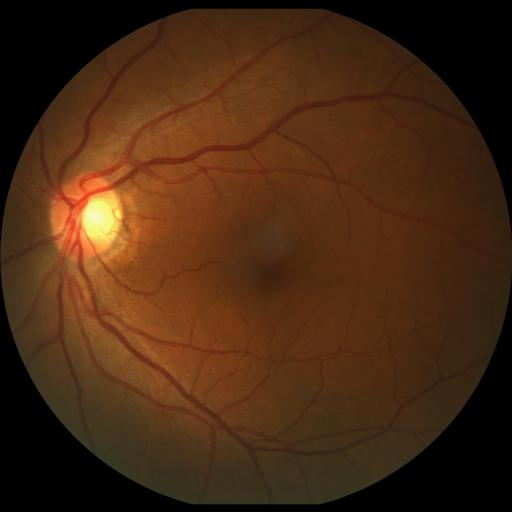Optic Cup: (80, 197, 120, 242)
Optic Disc: (49, 173, 124, 261)
